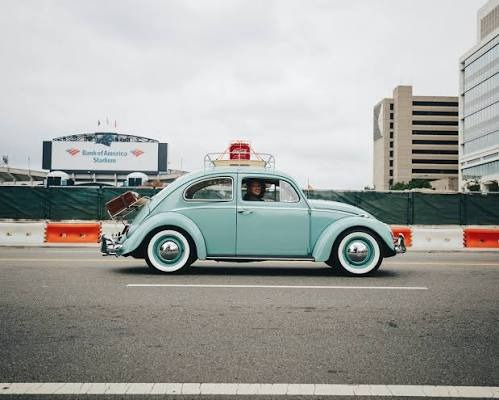car: (92, 160, 406, 277), (85, 161, 400, 277)
